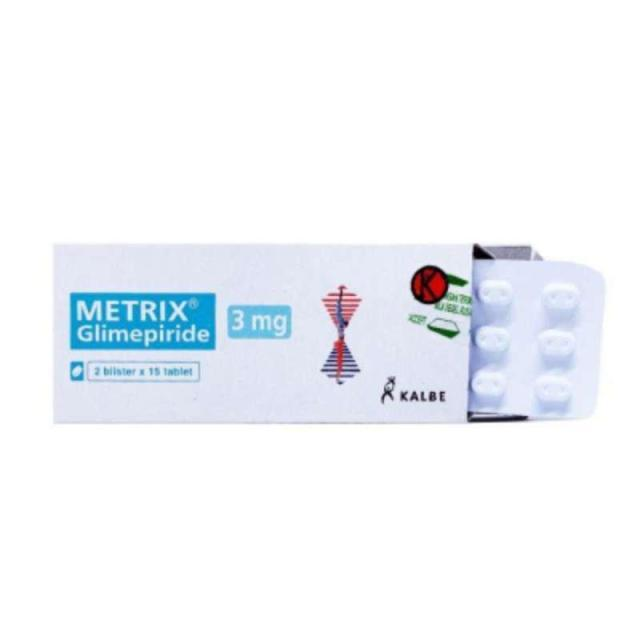drug-name: (74, 294, 191, 324)
